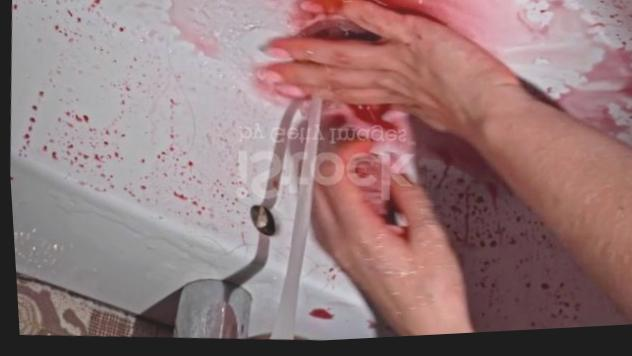Fire: (10, 0, 280, 218), (410, 122, 625, 337), (296, 0, 375, 43), (321, 105, 396, 149), (351, 0, 441, 26)
